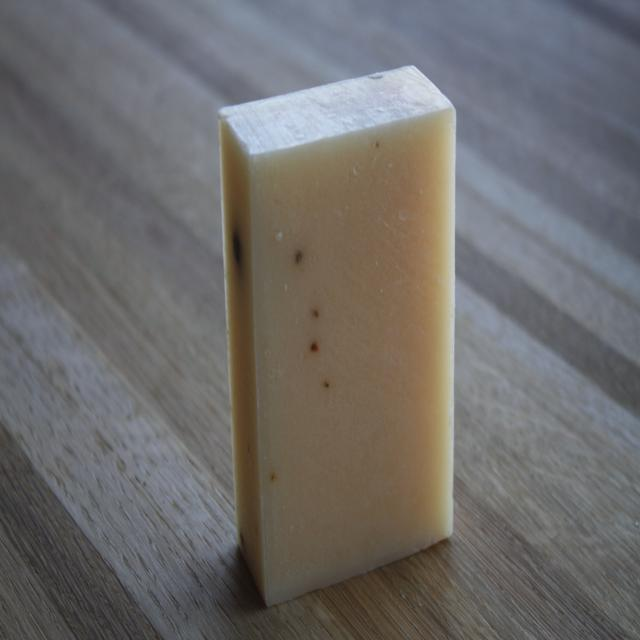soap: (214, 54, 462, 609)
